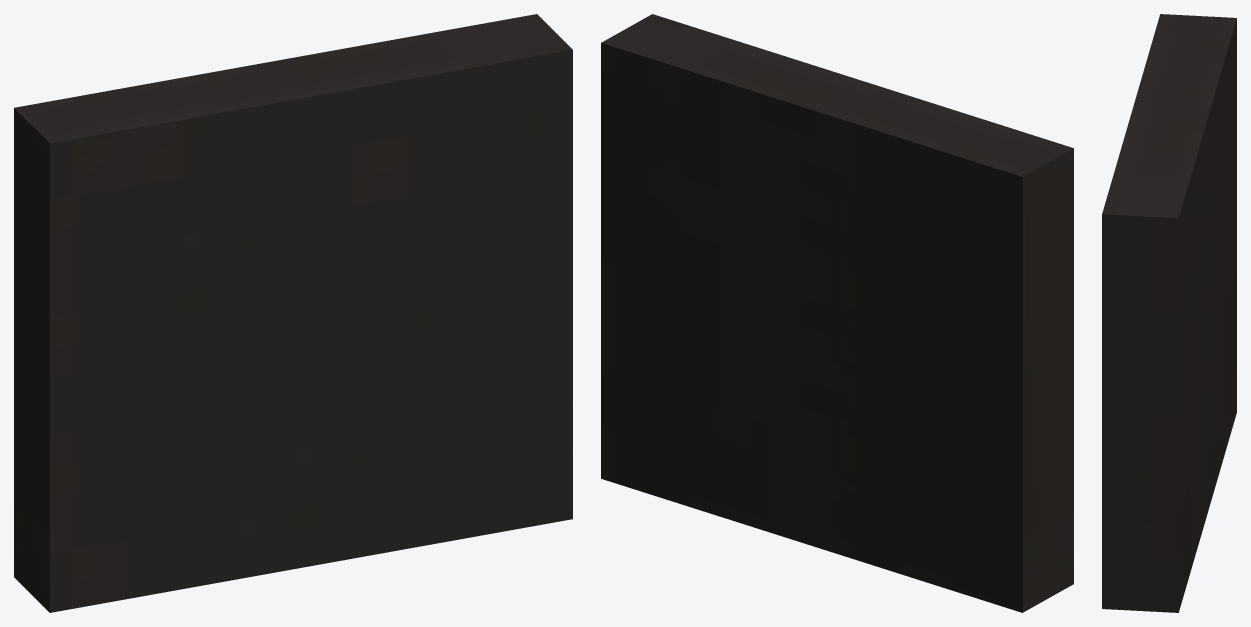
The model's file is seat__seat_pad.glb.
The picture shows the model from 3 angles, left to right: view 1: azimuth 30°, elevation 25°; view 2: azimuth 150°, elevation 25°; view 3: azimuth 270°, elevation 25°; orthographic projection. The views are drawn at different scales.
Visible parts, largest first — view 1: world; view 2: world; view 3: world.
Part boxes in pixels (x1,y1,x2,y2): world: [14, 14, 572, 612]; world: [601, 14, 1073, 612]; world: [1102, 14, 1236, 612].
Size of the model in its own units: 0.3442 by 0.31 by 0.096.
1 material, 1 textured.
